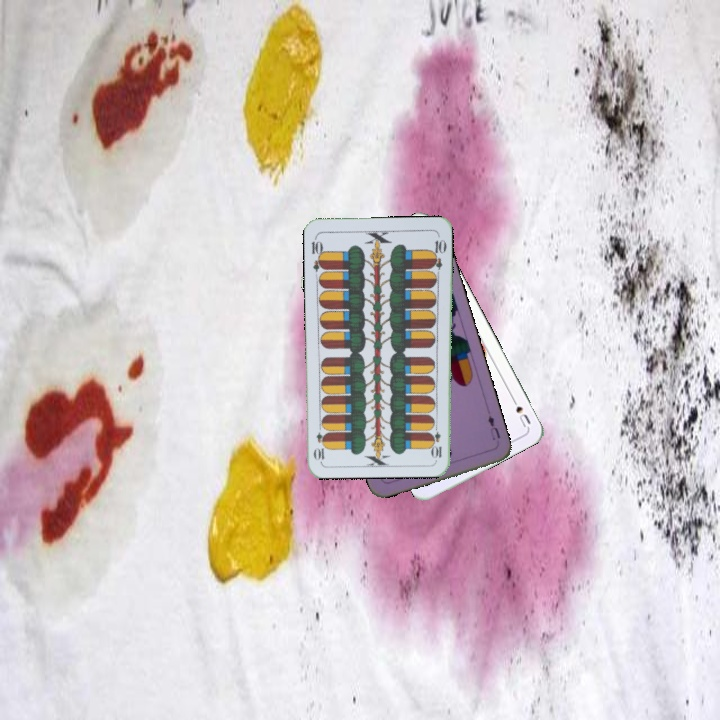E10: (307, 233, 327, 273), (430, 420, 444, 461)
EU: (484, 411, 503, 443)
SU: (507, 392, 533, 430)
